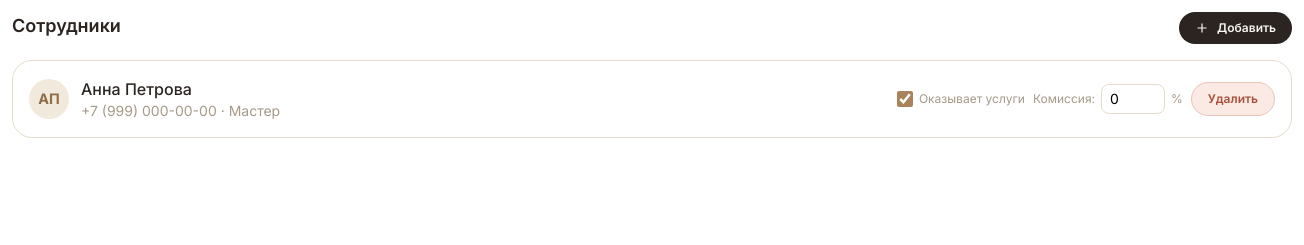
Scenario: MembersTab — US-62 "provides services" toggle › lets the owner cancel instead of confirming
Click the checkbox labelled "Оказывает услуги".
click(905, 99)  # box [897,91,913,107]
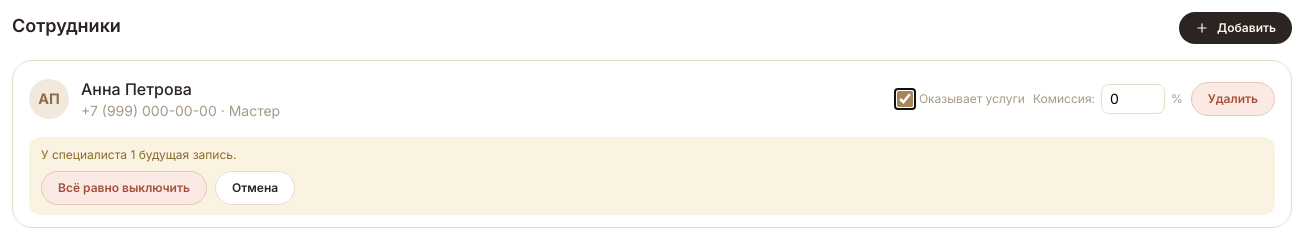
Now the text "У специалиста 1 будущая запись." is shown, box [41,147,236,162]
Click the button "Отмена".
click(255, 188)  # box [215,171,295,205]
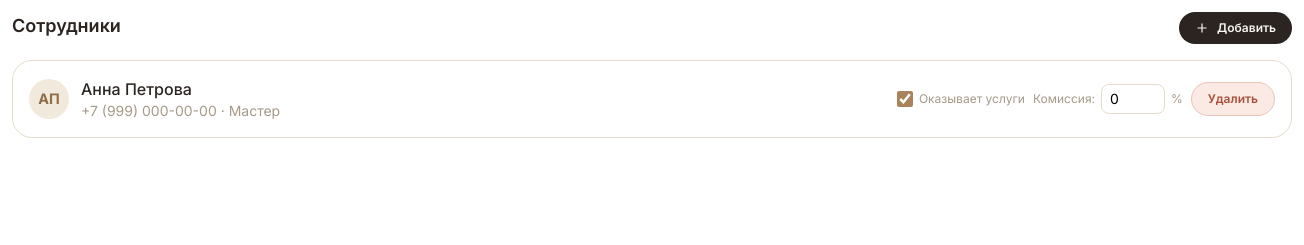
Expected: the checkbox labelled "Оказывает услуги" is checked, [897,91,913,107]
Now the text "У специалиста 1 будущая запись." is gone
